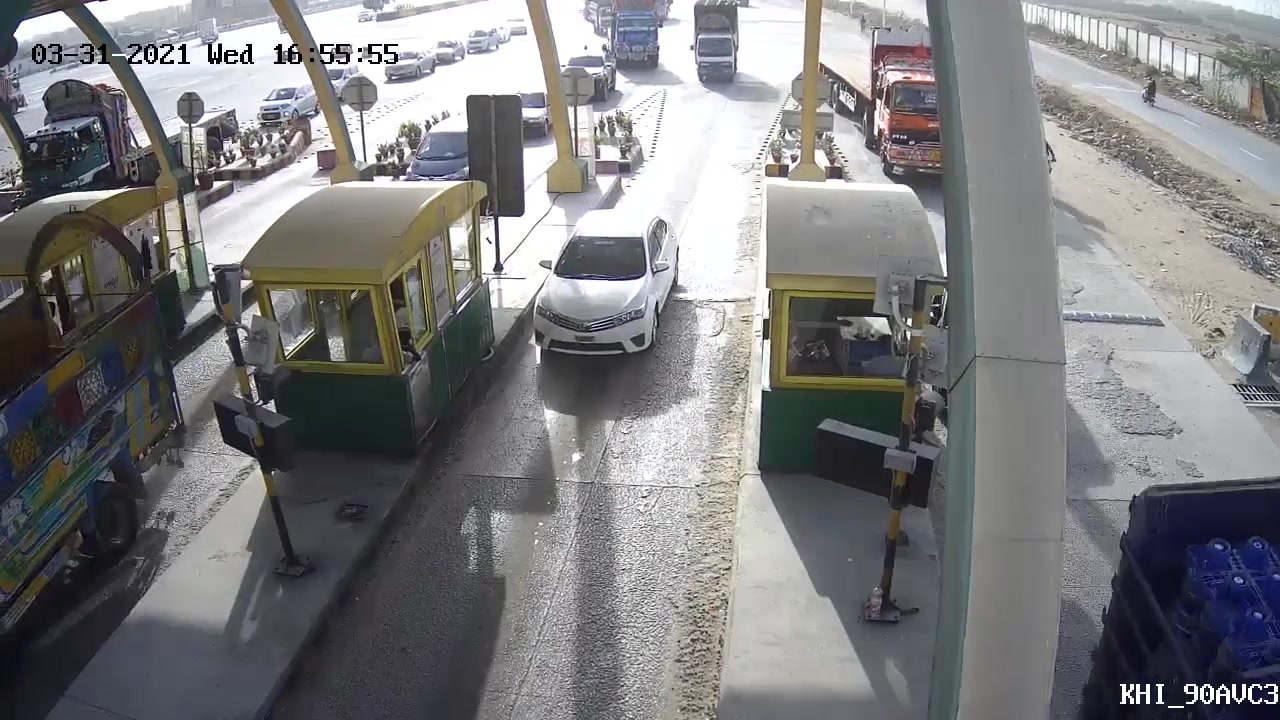F1: (511, 201, 687, 408)
